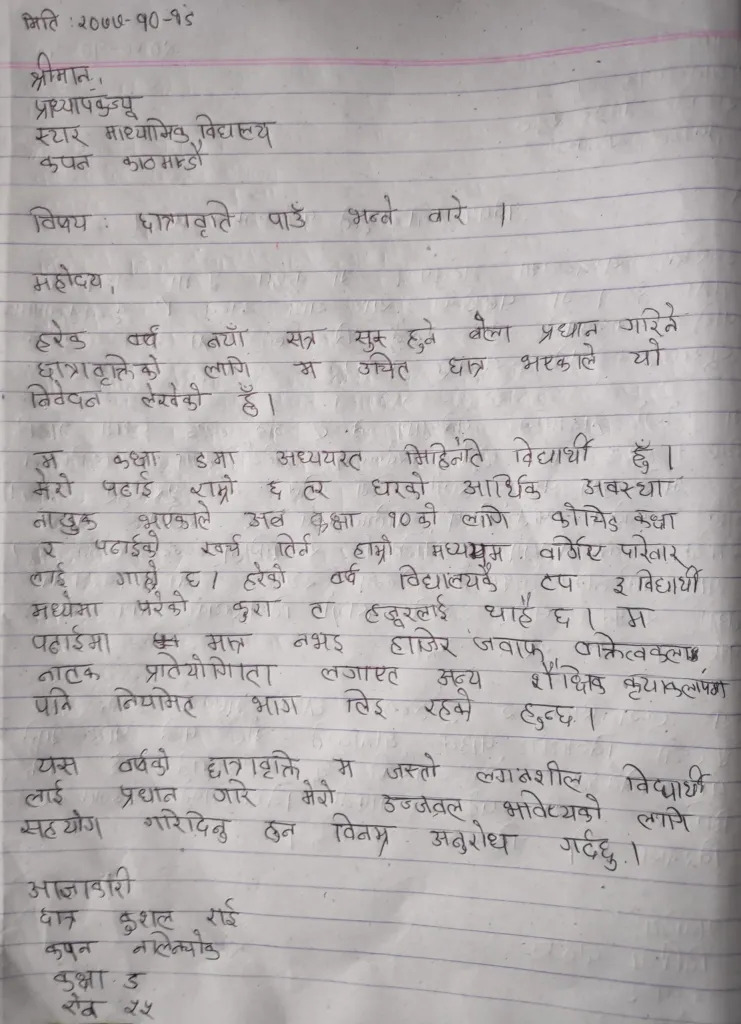text: (140, 650, 282, 688), (19, 864, 143, 903), (572, 630, 700, 667), (425, 818, 524, 864), (616, 759, 714, 804), (36, 352, 163, 386), (619, 668, 732, 706), (469, 758, 585, 795), (136, 198, 238, 239), (75, 3, 200, 36), (496, 789, 605, 825), (28, 90, 145, 123), (390, 562, 503, 596), (553, 826, 624, 877), (138, 807, 235, 844), (206, 746, 305, 782), (324, 810, 398, 858), (109, 684, 201, 721), (132, 929, 224, 965), (28, 621, 115, 659), (400, 435, 489, 472), (511, 431, 596, 469), (362, 593, 453, 628), (375, 788, 468, 822), (25, 50, 96, 94), (193, 110, 283, 144), (16, 809, 106, 843), (527, 660, 607, 697), (576, 474, 677, 502), (117, 142, 208, 173), (28, 261, 108, 296), (462, 471, 546, 504), (137, 380, 215, 415), (273, 445, 366, 474), (385, 625, 459, 661), (616, 534, 692, 569), (520, 342, 600, 375), (24, 202, 96, 237), (135, 501, 219, 531), (426, 536, 515, 564), (619, 301, 684, 339), (24, 379, 101, 411), (28, 591, 105, 623), (469, 631, 548, 662), (316, 660, 403, 688), (536, 533, 606, 567), (103, 118, 190, 145), (516, 696, 580, 732), (32, 506, 99, 539), (551, 502, 622, 533), (384, 750, 443, 787), (92, 531, 166, 560), (633, 566, 707, 595), (482, 593, 540, 630), (342, 194, 403, 229), (34, 318, 90, 356), (634, 804, 696, 837), (116, 743, 173, 778), (284, 627, 349, 657), (534, 316, 603, 344), (420, 688, 475, 723), (112, 906, 181, 933), (368, 471, 430, 501), (99, 469, 156, 501), (384, 501, 441, 533), (32, 122, 92, 152), (132, 590, 192, 620), (35, 660, 104, 686), (466, 308, 514, 345), (240, 559, 292, 593), (205, 778, 262, 809), (243, 691, 306, 719), (112, 784, 182, 809), (28, 468, 81, 501), (354, 351, 412, 381), (51, 964, 111, 993), (113, 559, 164, 593), (41, 935, 100, 964), (339, 687, 389, 721), (265, 199, 311, 235), (456, 502, 513, 531), (187, 473, 239, 504), (228, 594, 283, 623), (307, 507, 361, 536), (201, 896, 243, 933), (630, 504, 682, 533), (428, 664, 486, 690), (16, 4, 63, 36), (426, 194, 470, 228), (351, 534, 397, 566), (20, 779, 67, 810), (200, 629, 256, 655), (33, 905, 85, 933), (204, 322, 251, 352), (28, 687, 75, 717), (37, 151, 95, 175), (61, 992, 109, 1021), (257, 815, 300, 847), (405, 318, 442, 355), (268, 531, 315, 560), (109, 446, 163, 471), (203, 355, 252, 382), (627, 337, 667, 370), (282, 324, 329, 352), (121, 321, 163, 352), (34, 753, 86, 778), (192, 445, 240, 472), (233, 382, 265, 422), (199, 534, 246, 561), (296, 781, 339, 810), (444, 352, 488, 380), (29, 560, 70, 590), (535, 570, 582, 595), (627, 437, 656, 477), (243, 508, 291, 532), (120, 995, 164, 1021), (28, 444, 68, 471), (350, 326, 391, 352), (301, 596, 338, 624), (547, 603, 580, 633), (328, 753, 360, 782), (299, 477, 333, 504), (117, 967, 149, 995), (327, 566, 363, 590), (291, 356, 326, 379), (176, 565, 208, 590), (260, 477, 290, 501), (608, 569, 632, 599), (36, 540, 68, 561)
